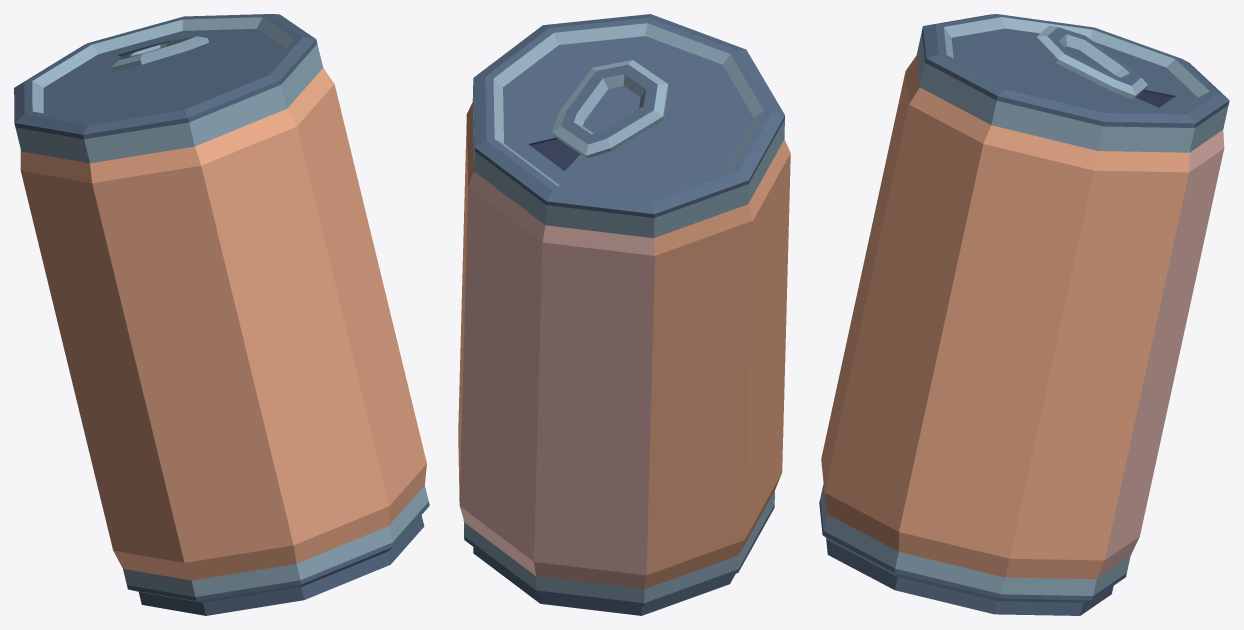
Rendered from DrSwerve.Pech.fbx.
3 views of the same model, side by side, from view 1: azimuth 30°, elevation 25°; view 2: azimuth 150°, elevation 25°; view 3: azimuth 270°, elevation 25° (orthographic).
Parts seen in each view (by area): view 1: DrSwerve.Pech; view 2: DrSwerve.Pech; view 3: DrSwerve.Pech.
Part boxes in pixels (x1=…): DrSwerve.Pech: x1=14, y1=14, x2=429, y2=615; DrSwerve.Pech: x1=458, y1=14, x2=790, y2=615; DrSwerve.Pech: x1=819, y1=14, x2=1229, y2=615.
Size of the model in its own units: 38.25 by 58.72 by 40.71.
